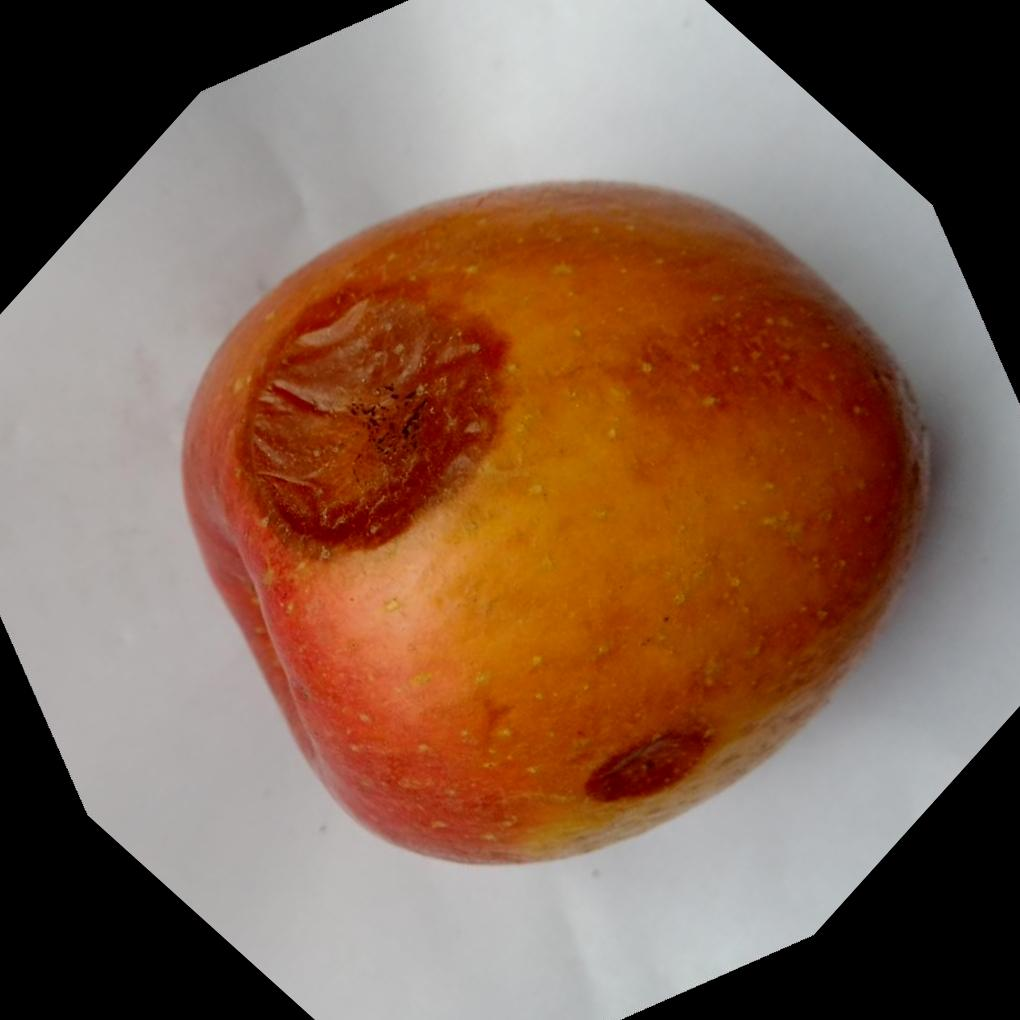FreshOrange: (179, 178, 940, 874)
